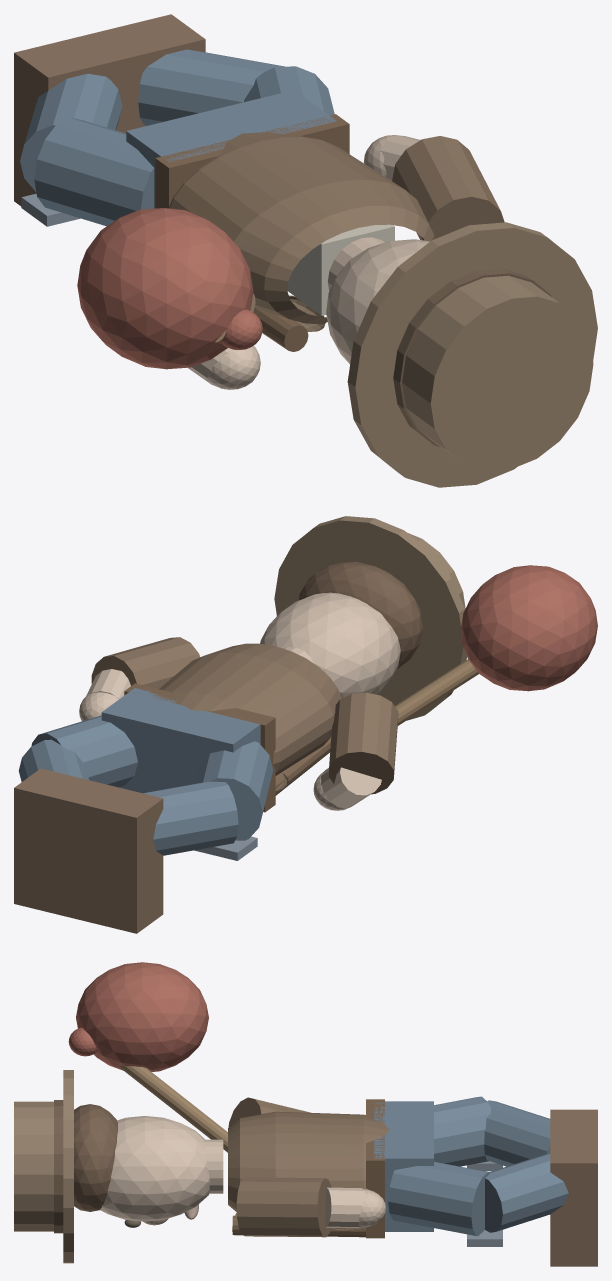
The model's file is George_walk_05.glb.
3 views of the same model, one above another, from view 1: azimuth 30°, elevation 25°; view 2: azimuth 150°, elevation 25°; view 3: azimuth 270°, elevation 25° (orthographic). The views are drawn at different scales.
Parts seen in each view (by area): view 1: hat_crown, worn_cream_work_shirt, tied_cloth_bindle, weathered_felt_hat_brim, denim_thigh_-1, faded_blue_denim_waist, rolled_shirt_sleeve_1, work_boot_-1, denim_calf_1, fair_skin_face, denim_calf_-1, work_boot_1 (+9 smaller); view 2: tied_cloth_bindle, weathered_felt_hat_brim, worn_cream_work_shirt, work_boot_-1, fair_skin_face, faded_blue_denim_waist, work_boot_1, rolled_shirt_sleeve_-1, denim_calf_-1, short_brown_hair, denim_thigh_-1, denim_thigh_1 (+9 smaller); view 3: tied_cloth_bindle, worn_cream_work_shirt, fair_skin_face, denim_thigh_1, work_boot_1, rolled_shirt_sleeve_1, hat_crown, denim_calf_1, faded_blue_denim_waist, short_brown_hair, denim_calf_-1, denim_thigh_-1 (+12 smaller).
Boxes of the visible parts, x1,y1,x2,y2 form: hat_crown: [402, 275, 593, 470]; worn_cream_work_shirt: [168, 132, 434, 331]; tied_cloth_bindle: [77, 208, 253, 369]; weathered_felt_hat_brim: [347, 222, 597, 487]; denim_thigh_-1: [34, 117, 154, 226]; faded_blue_denim_waist: [126, 90, 336, 208]; rolled_shirt_sleeve_1: [392, 136, 504, 240]; work_boot_-1: [14, 32, 130, 206]; denim_calf_1: [138, 49, 284, 125]; fair_skin_face: [326, 239, 429, 364]; denim_calf_-1: [20, 73, 122, 191]; work_boot_1: [90, 14, 205, 132]; tied_cloth_bindle: [460, 565, 597, 691]; weathered_felt_hat_brim: [274, 516, 466, 720]; worn_cream_work_shirt: [159, 643, 341, 791]; work_boot_-1: [72, 782, 163, 933]; fair_skin_face: [260, 592, 400, 698]; faded_blue_denim_waist: [101, 688, 260, 793]; work_boot_1: [14, 768, 101, 917]; rolled_shirt_sleeve_-1: [329, 692, 398, 794]; denim_calf_-1: [143, 781, 238, 855]; short_brown_hair: [298, 561, 422, 669]; denim_thigh_-1: [195, 741, 273, 840]; denim_thigh_1: [31, 715, 137, 787]; tied_cloth_bindle: [76, 962, 208, 1071]; worn_cream_work_shirt: [228, 1111, 389, 1230]; fair_skin_face: [100, 1116, 209, 1221]; denim_thigh_1: [388, 1161, 490, 1236]; work_boot_1: [550, 1135, 597, 1266]; rolled_shirt_sleeve_1: [236, 1177, 331, 1237]; hat_crown: [14, 1101, 53, 1231]; denim_calf_1: [485, 1153, 568, 1232]; faded_blue_denim_waist: [374, 1101, 433, 1231]; short_brown_hair: [74, 1104, 117, 1211]; denim_calf_-1: [484, 1100, 550, 1166]; denim_thigh_-1: [434, 1096, 491, 1166].
Bounding box in the file's own units: 1.72 × 0.93 × 2.46.
